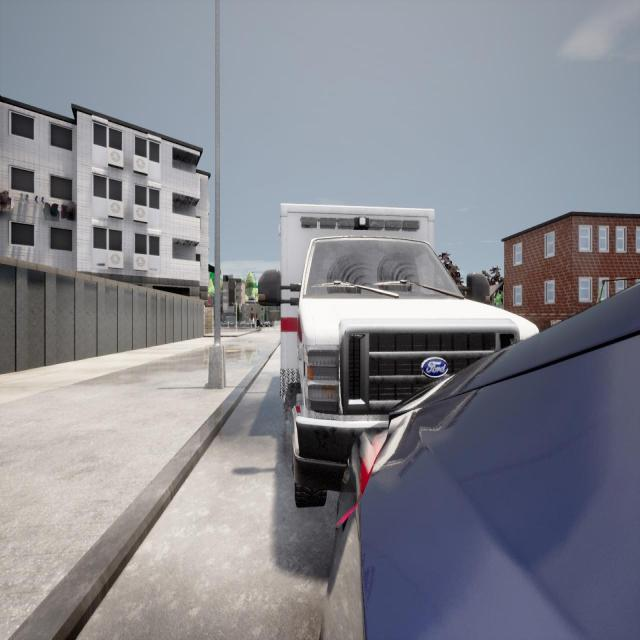Vehicle: (320, 279, 639, 640), (257, 202, 538, 508)
traffic_light: (234, 303, 237, 313)
